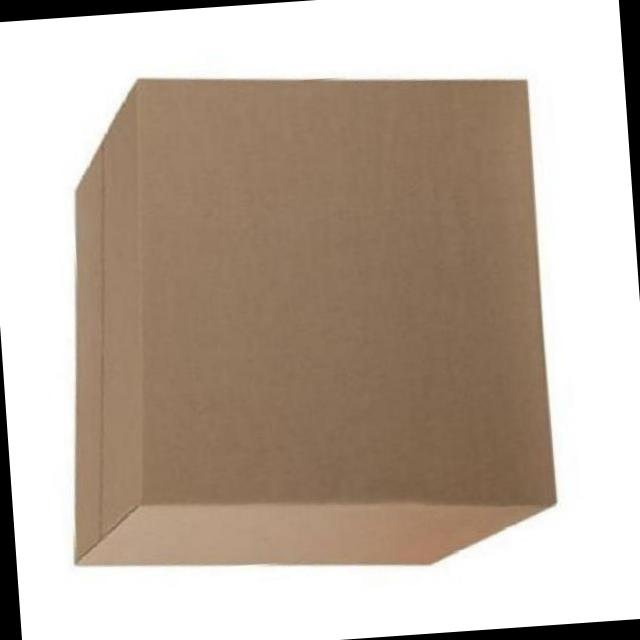box: (32, 42, 586, 603)
